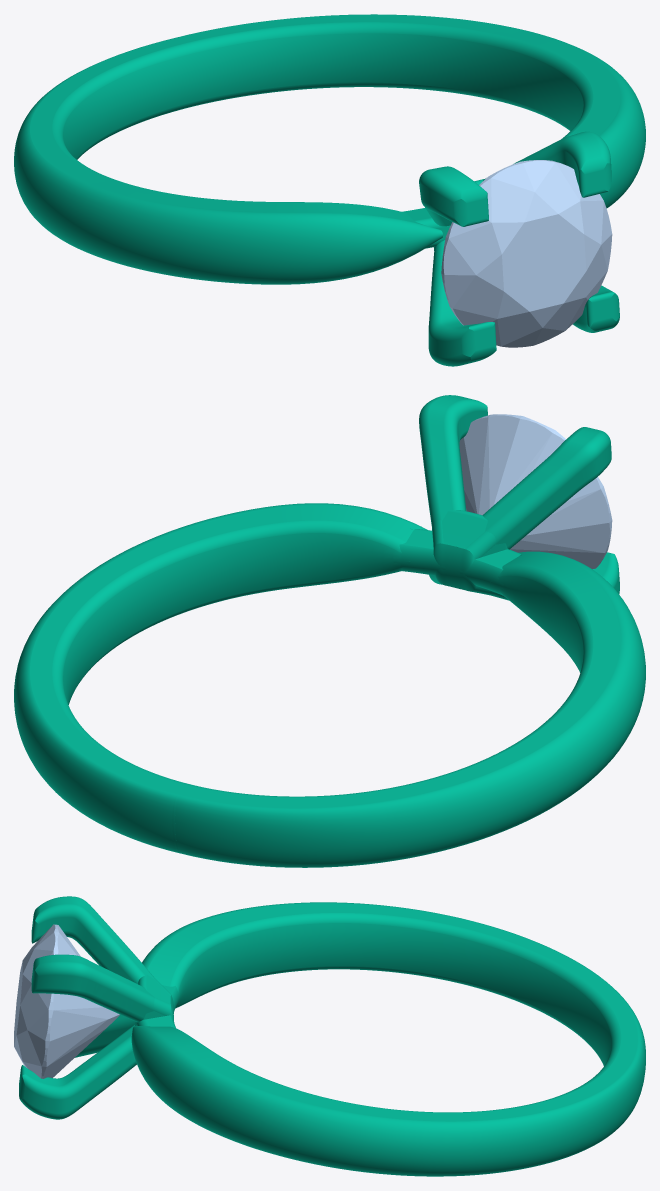
The picture shows the model from 3 angles, top to bottom: view 1: azimuth 30°, elevation 25°; view 2: azimuth 150°, elevation 25°; view 3: azimuth 270°, elevation 25°; orthographic projection. The views are drawn at different scales.
Visible parts, largest first — view 1: VSR1001(base).3dm, Diamond_Round; view 2: VSR1001(base).3dm, Diamond_Round; view 3: VSR1001(base).3dm, Diamond_Round.
Boxes of the visible parts, x1,y1,x2,y2 form: VSR1001(base).3dm: (14,14,645,366); Diamond_Round: (441,160,612,347); VSR1001(base).3dm: (14,395,645,867); Diamond_Round: (459,414,612,569); VSR1001(base).3dm: (19,896,645,1176); Diamond_Round: (14,924,119,1078).
Size of the model in its own units: 2.53 by 0.8387 by 2.98.
